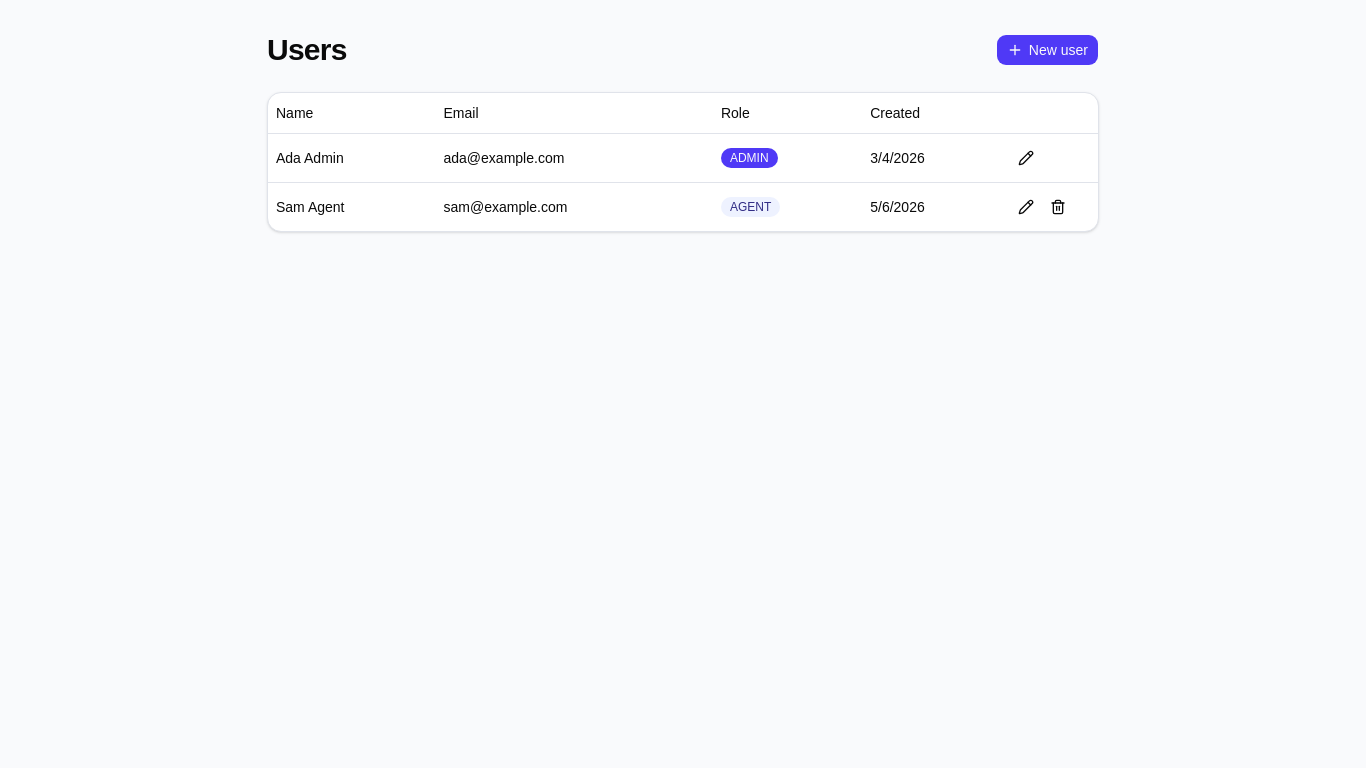
Test: UsersPage › edit user › shows the data of whichever row is edited
Click the button named "Edit Ada Admin" at (1026, 158), box [1010, 142, 1042, 174]
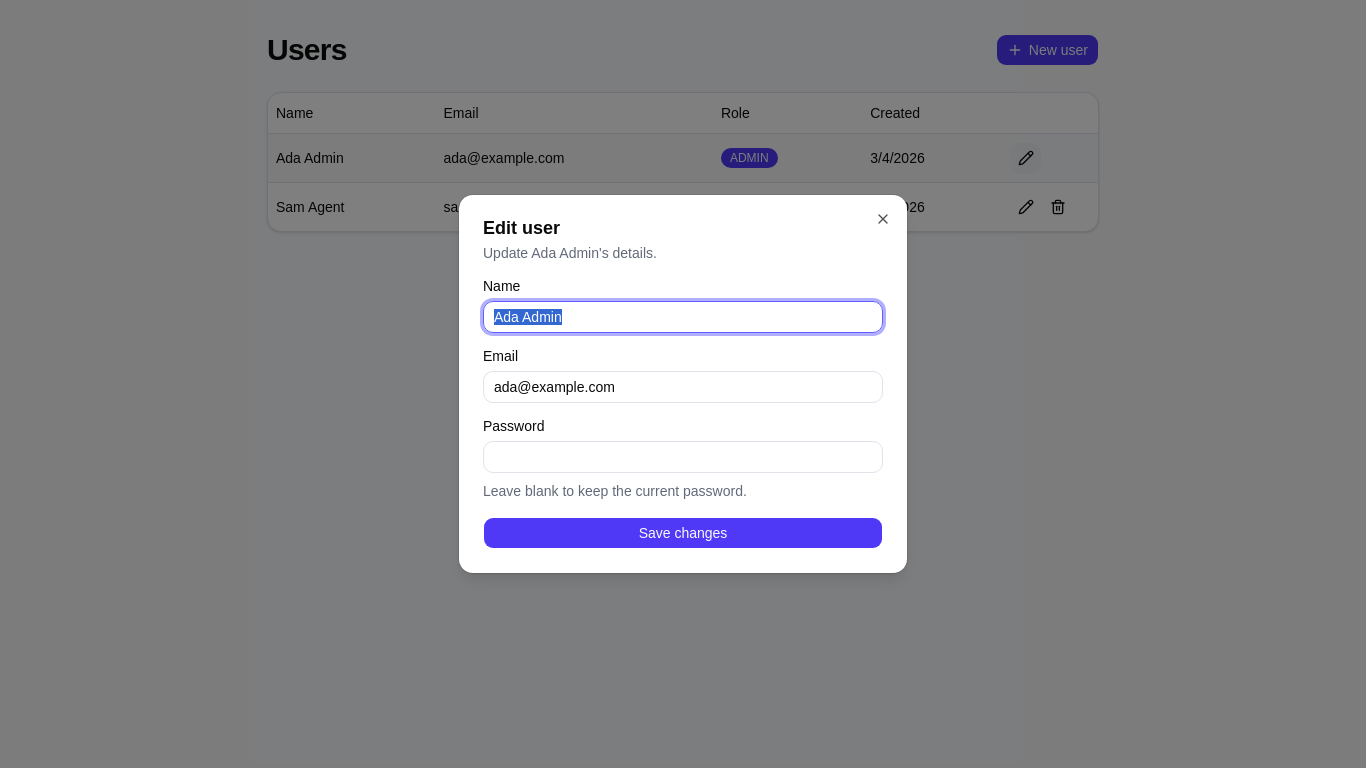
Expected: the field labelled "Email" holds "ada@example.com", [483, 371, 883, 403]
